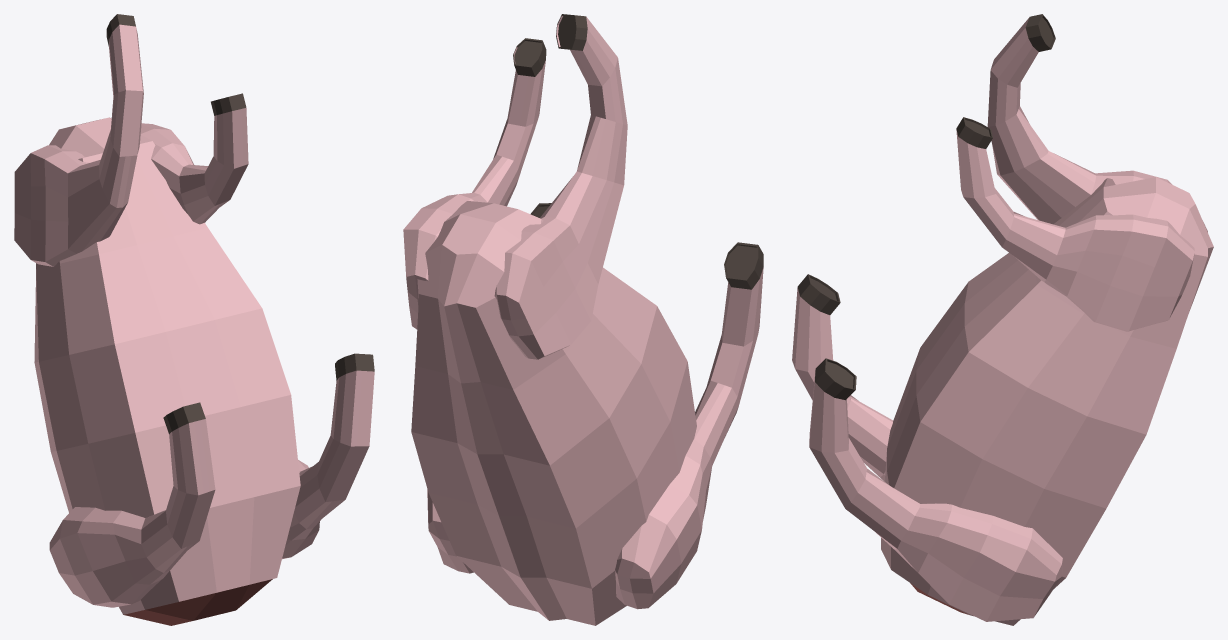
The model's file is varken1.fbx.
The picture shows the model from 3 angles, left to right: view 1: azimuth 30°, elevation 25°; view 2: azimuth 150°, elevation 25°; view 3: azimuth 270°, elevation 25°; orthographic projection. The views are drawn at different scales.
Parts seen in each view (by area): view 1: Cube.004; view 2: Cube.004; view 3: Cube.004.
Part boxes in pixels (<box>): Cube.004: <box>14,14,374,625</box>; Cube.004: <box>403,14,763,625</box>; Cube.004: <box>792,14,1213,625</box>.
Bounding box in the file's own units: 2.32 × 5.66 × 3.74.
